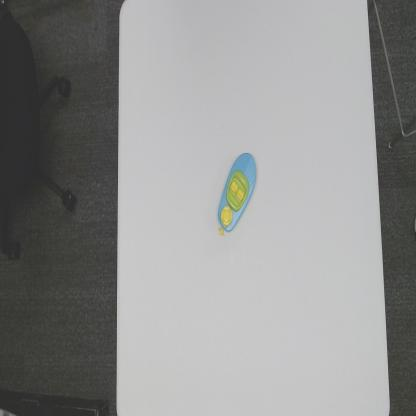Boat: (216, 142, 258, 243)
